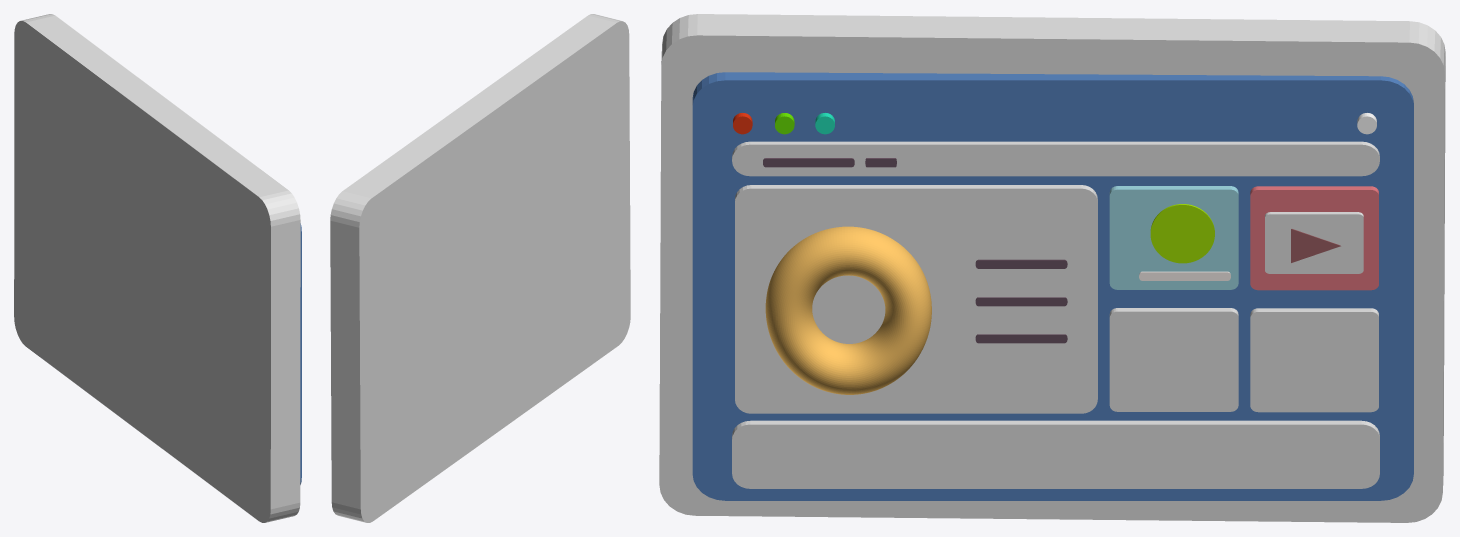
Rendered from interface.gltf.
3 renders of one model, left to right at view 1: azimuth 30°, elevation 25°; view 2: azimuth 150°, elevation 25°; view 3: azimuth 270°, elevation 25°, orthographic. The views are drawn at different scales.
Visible parts, largest first — view 1: Cube, Cube.001; view 2: Cube; view 3: Cube.001, Cube, Cube.003, Cube.010, Cube.002, Torus.001, Cube.007, Cube.006, Cube.005, Cube.004, Cube.017, Cylinder.004 (+6 smaller).
Part boxes in pixels (box(x1,y1,x2,y2)): Cube: box(14, 14, 300, 522); Cube.001: box(300, 223, 301, 484); Cube: box(330, 14, 630, 522); Cube.001: box(692, 72, 1413, 500); Cube: box(659, 14, 1445, 522); Cube.003: box(735, 185, 1097, 413); Cube.010: box(732, 420, 1379, 488); Cube.002: box(732, 141, 1379, 176); Torus.001: box(765, 226, 931, 394); Cube.007: box(1250, 308, 1378, 412); Cube.006: box(1109, 308, 1238, 411); Cube.005: box(1109, 186, 1238, 289); Cube.004: box(1250, 186, 1378, 290); Cube.017: box(1265, 212, 1363, 273); Cylinder.004: box(1150, 204, 1214, 263).
Size of the model in its own units: 0.2752 by 1.23 by 1.82.
